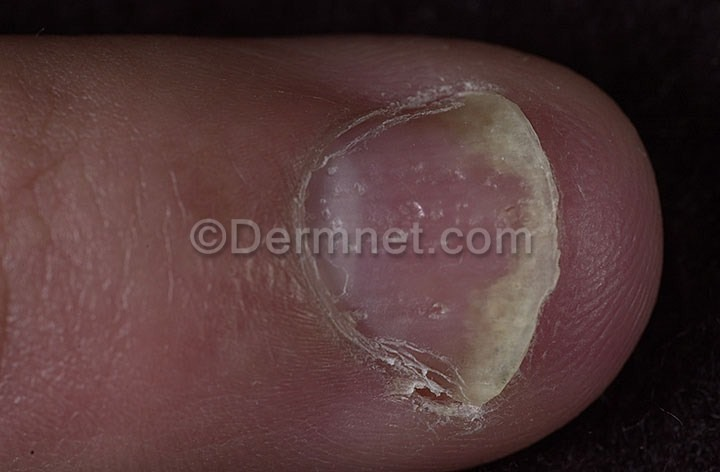Psoriasis: (255, 76, 568, 439)
